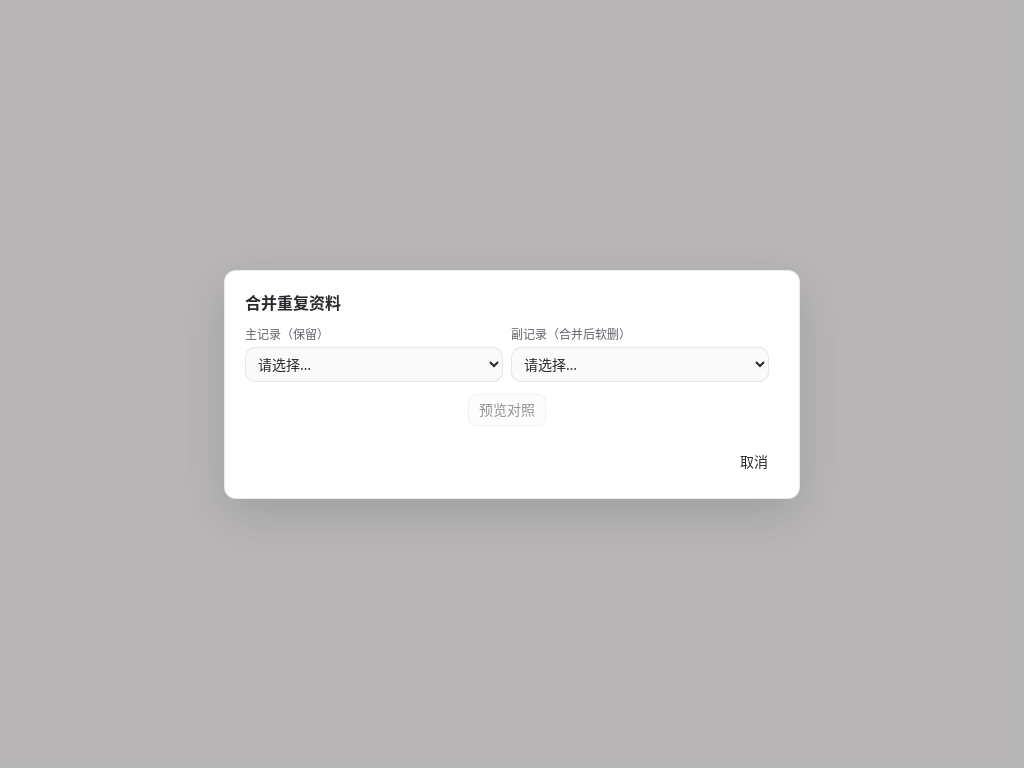
Scenario: F082 重复资料合并 › F082: 字段对照渲染 + 批注追加策略 + 确认合并
Select "主：阅读器指南" in the dropdown named "选择主记录": (374, 364) [245,346,503,382]
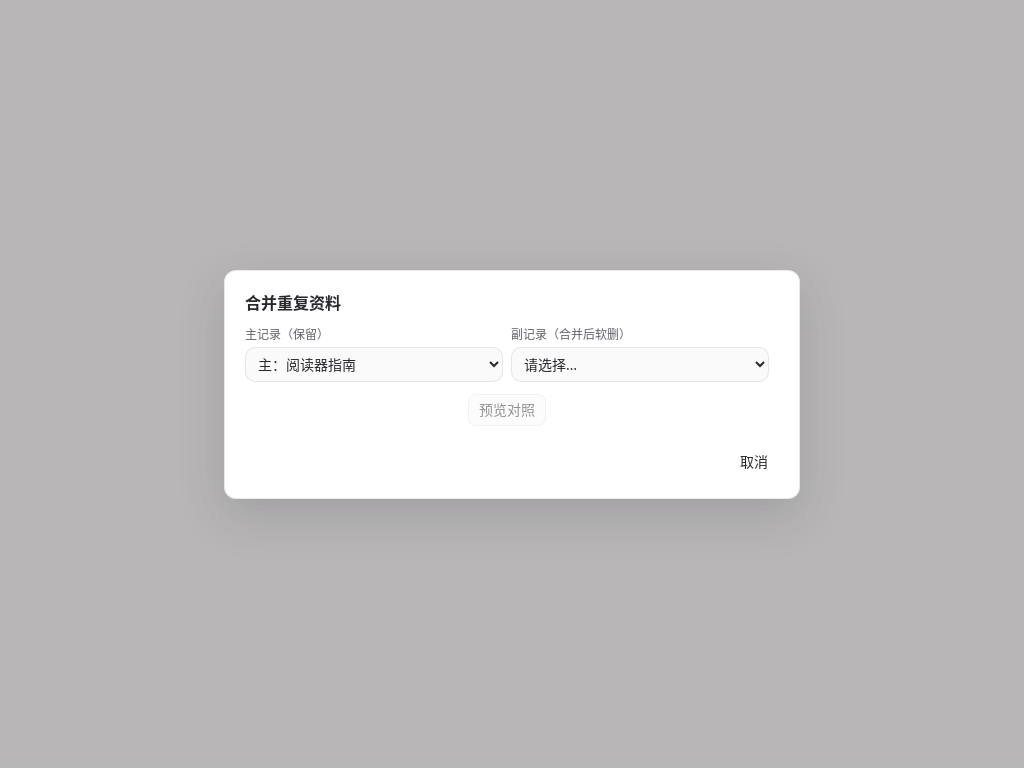
Select "副：阅读器指南（重复）" in the dropdown named "选择副记录": (640, 364) [511,346,769,382]
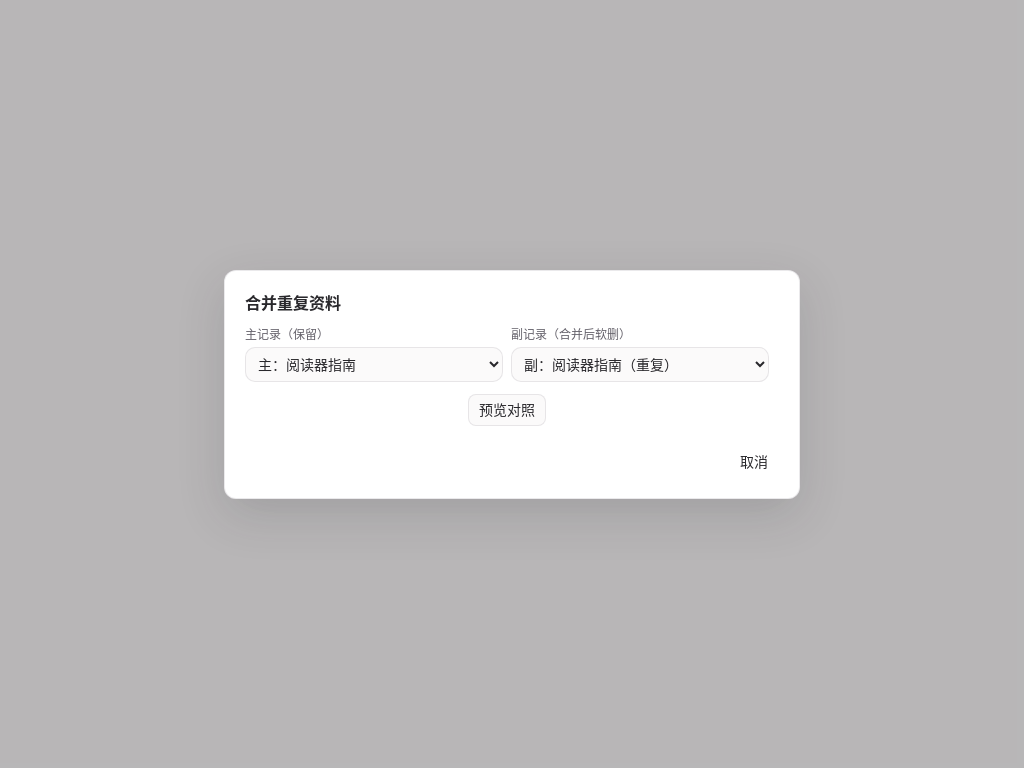
Click the button "预览对照": (507, 410) [468,394,546,426]
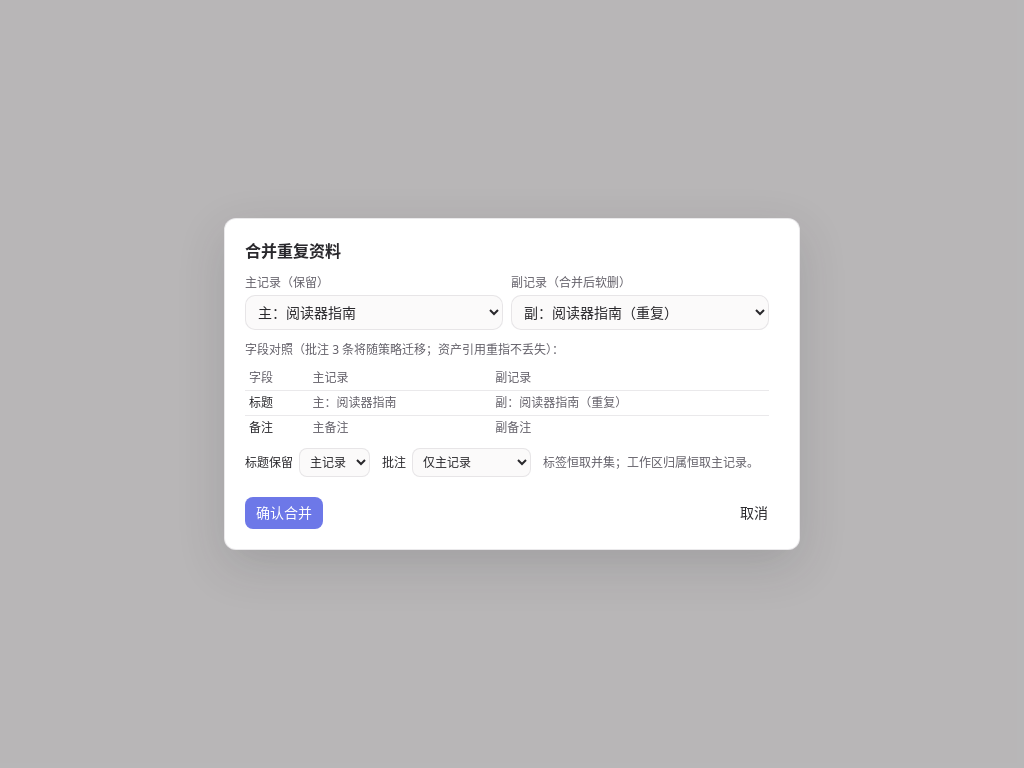
Expected: the element with test id "merge-preview" shows "主：阅读器指南", [312,394,396,411]
Expected: the element with test id "merge-preview" shows "副：阅读器指南（重复）", [495,394,627,411]
Expected: the text "字段对照（批注 3 条将随策略迁移；资产引用重指不丢失）：" is shown, [245,341,564,358]
Select "追加副记录批注" in the dropdown named "批注策略": (472, 462) [412,448,531,477]
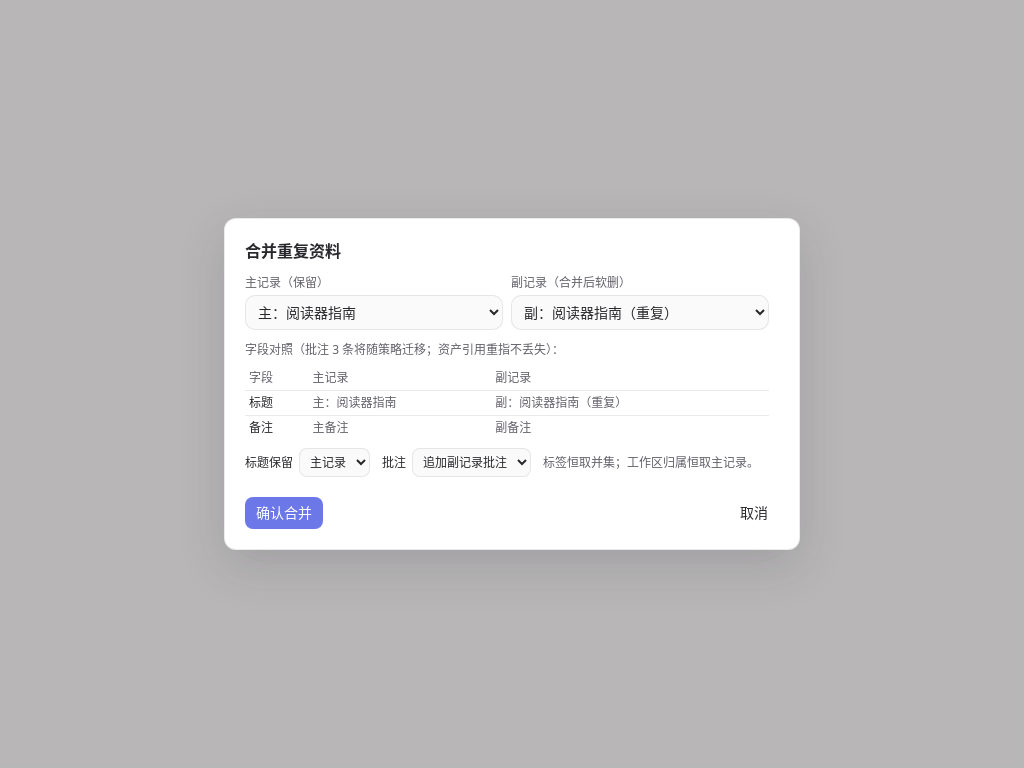
Click the button "确认合并": (284, 513) [245,497,323,529]
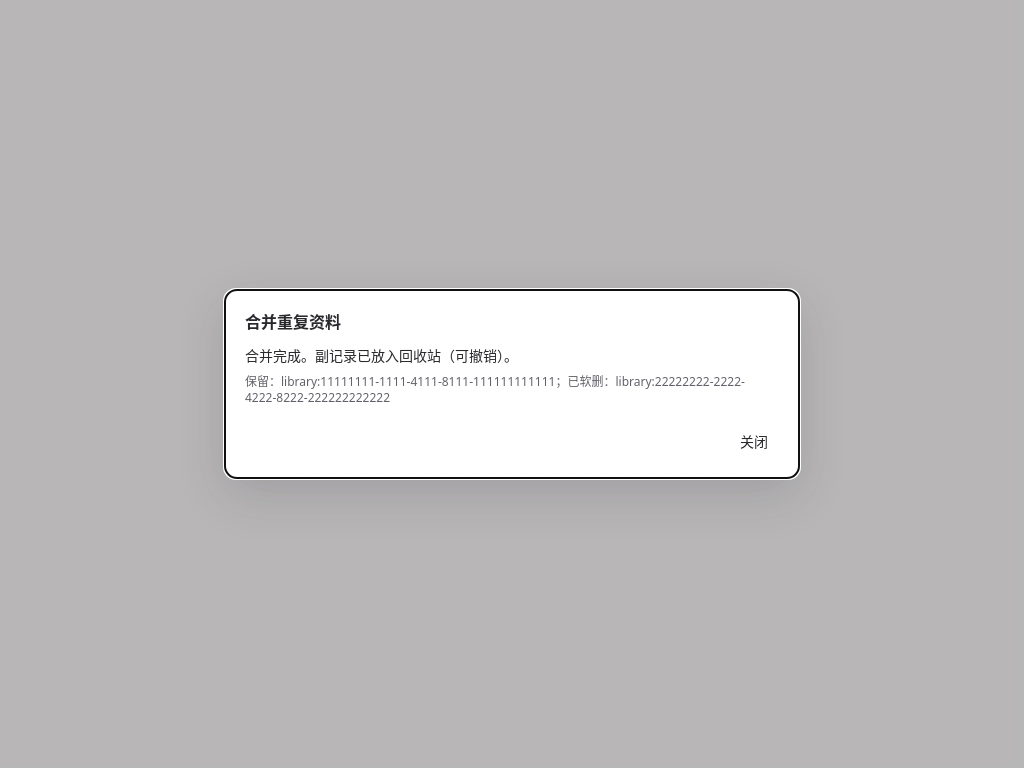
Expected: the text "合并完成。副记录已放入回收站（可撤销）。" is shown, [245,346,518,365]
